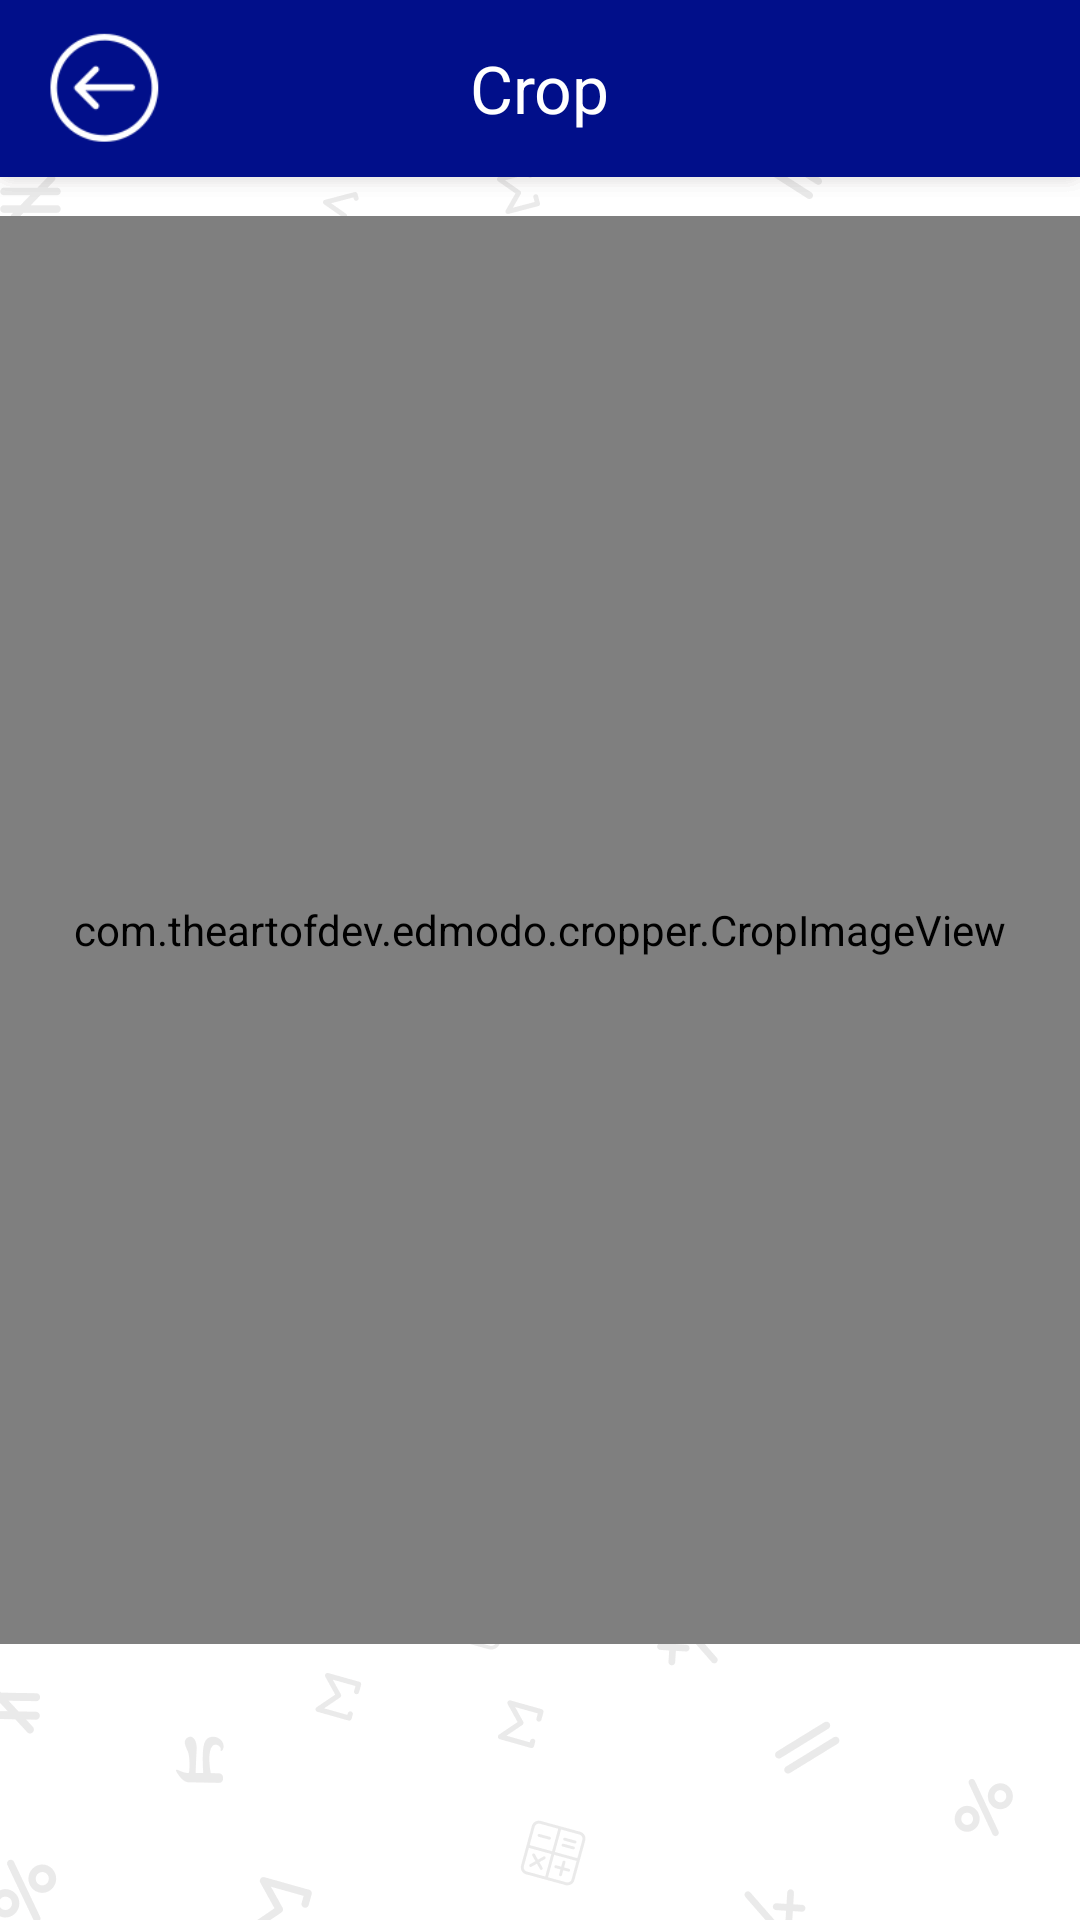

Icons on this 1080px x 1920px Android screen, each with its box as (x1, y1, x2, y2):
back: (50, 33, 159, 142)
